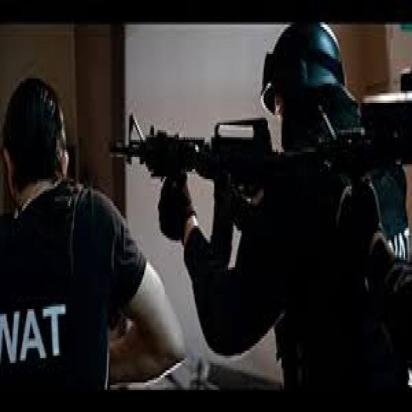Gun: (109, 110, 284, 206)
